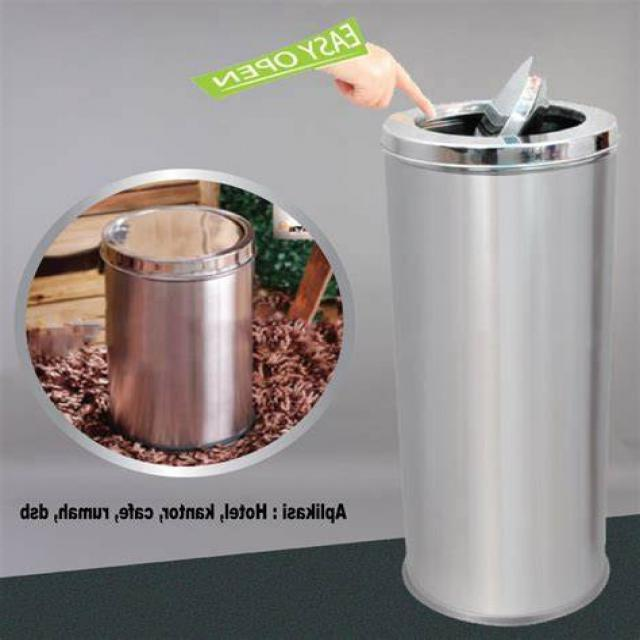garbage container: (376, 29, 618, 640), (24, 185, 284, 478)
